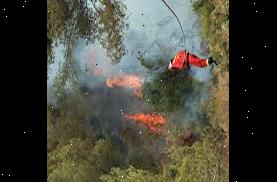fire: (99, 67, 184, 141)
